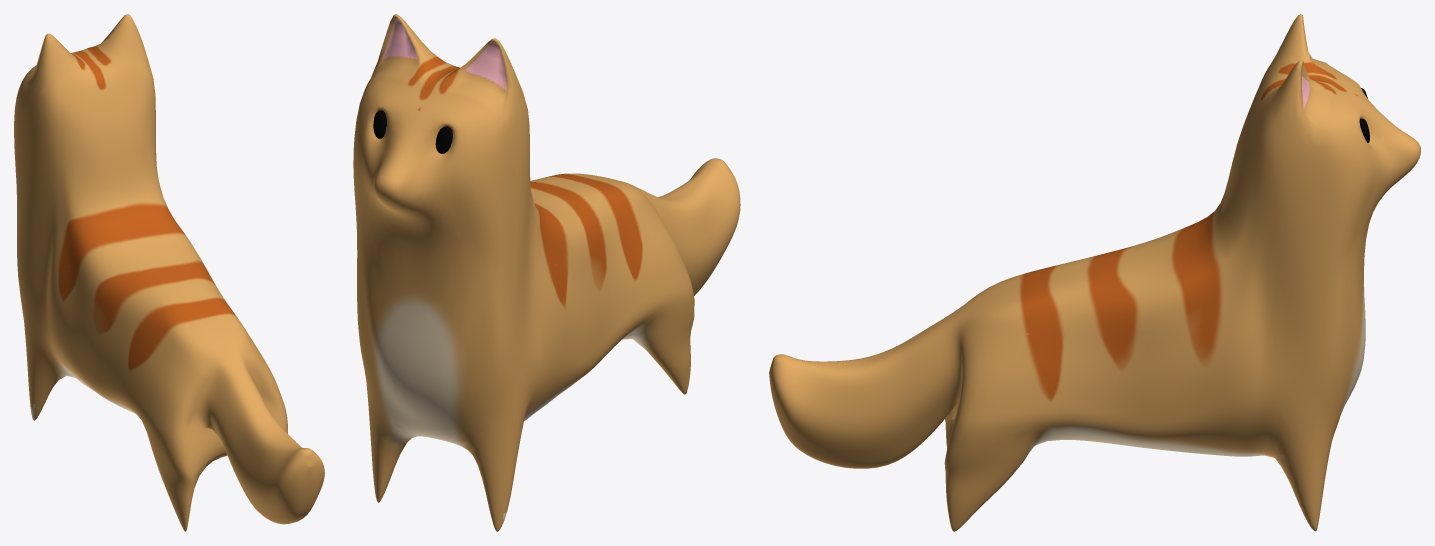
The model's file is cat.obj.
3 views of the same model, side by side, from view 1: azimuth 30°, elevation 25°; view 2: azimuth 150°, elevation 25°; view 3: azimuth 270°, elevation 25° (orthographic). The views are drawn at different scales.
Parts seen in each view (by area): view 1: Plane; view 2: Plane; view 3: Plane.
Boxes of the visible parts, x1,y1,x2,y2 form: Plane: [14, 14, 324, 531]; Plane: [353, 14, 740, 531]; Plane: [769, 14, 1420, 531].
Bounding box in the file's own units: 0.986 × 2.95 × 3.74.
